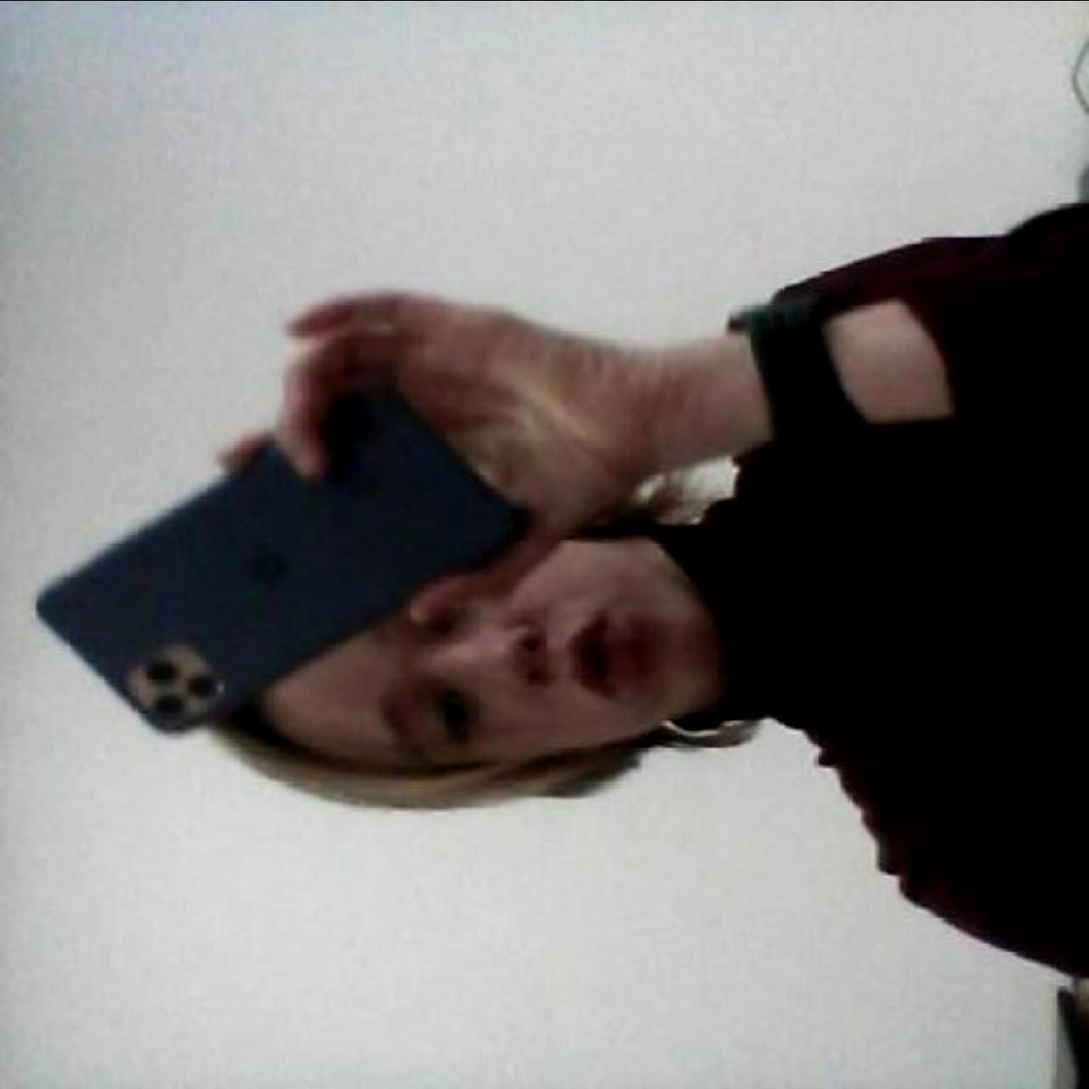phone: (31, 362, 541, 745)
